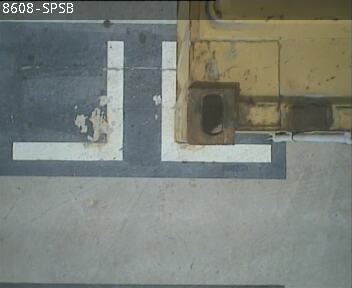groundmarker_1: (12, 41, 271, 161)
